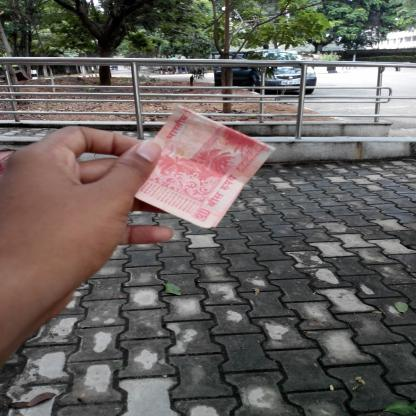Old20Back: (146, 111, 260, 222)
